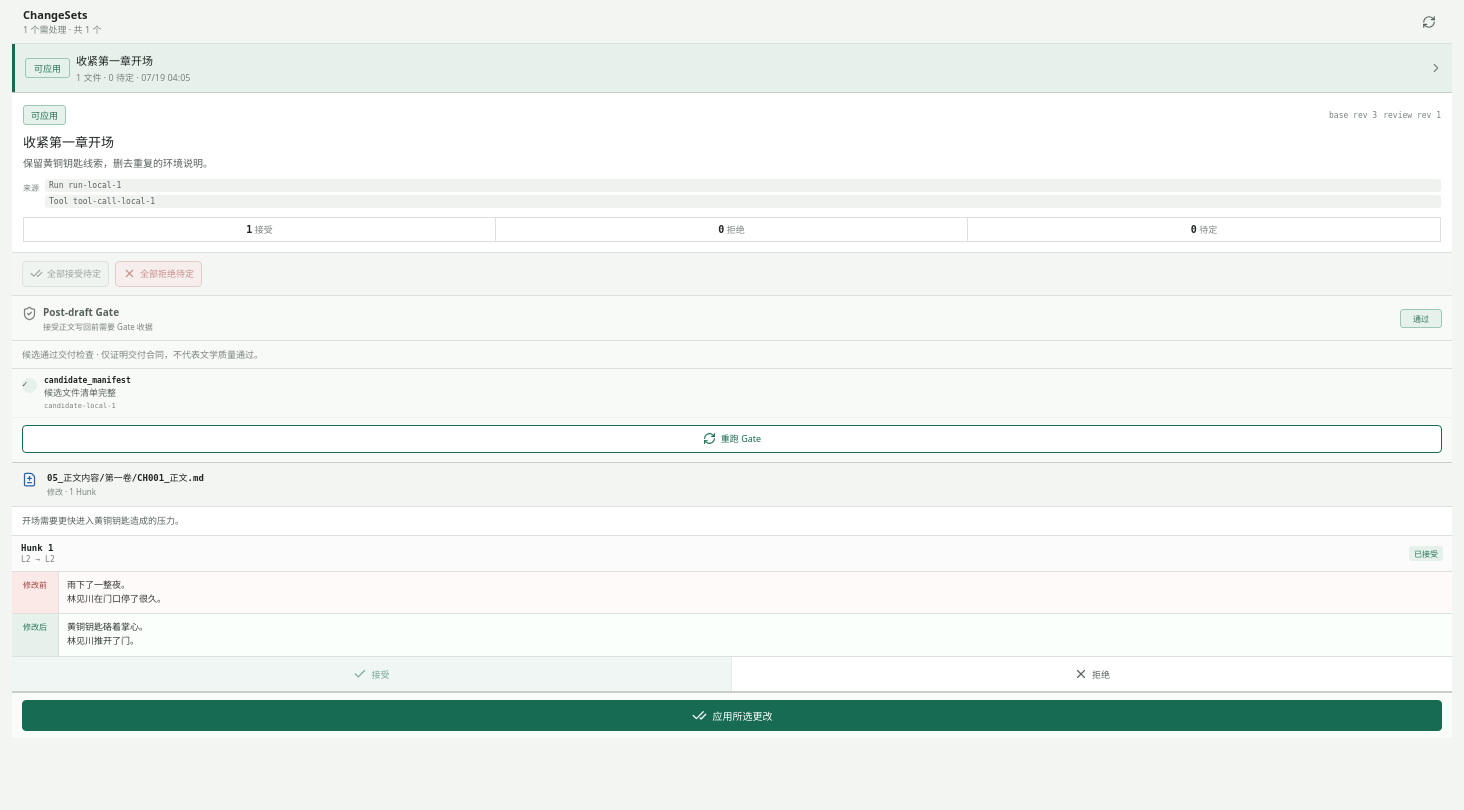
Scenario: ChangeSetReview › offers discard instead of an impossible Gate rerun after the final accepted Hunk is rejected
Expected: the text named "Gate 状态：通过" is shown, [1400, 309, 1442, 328]
Click the button "拒绝": coordinates (1092, 674) [732, 657, 1452, 691]
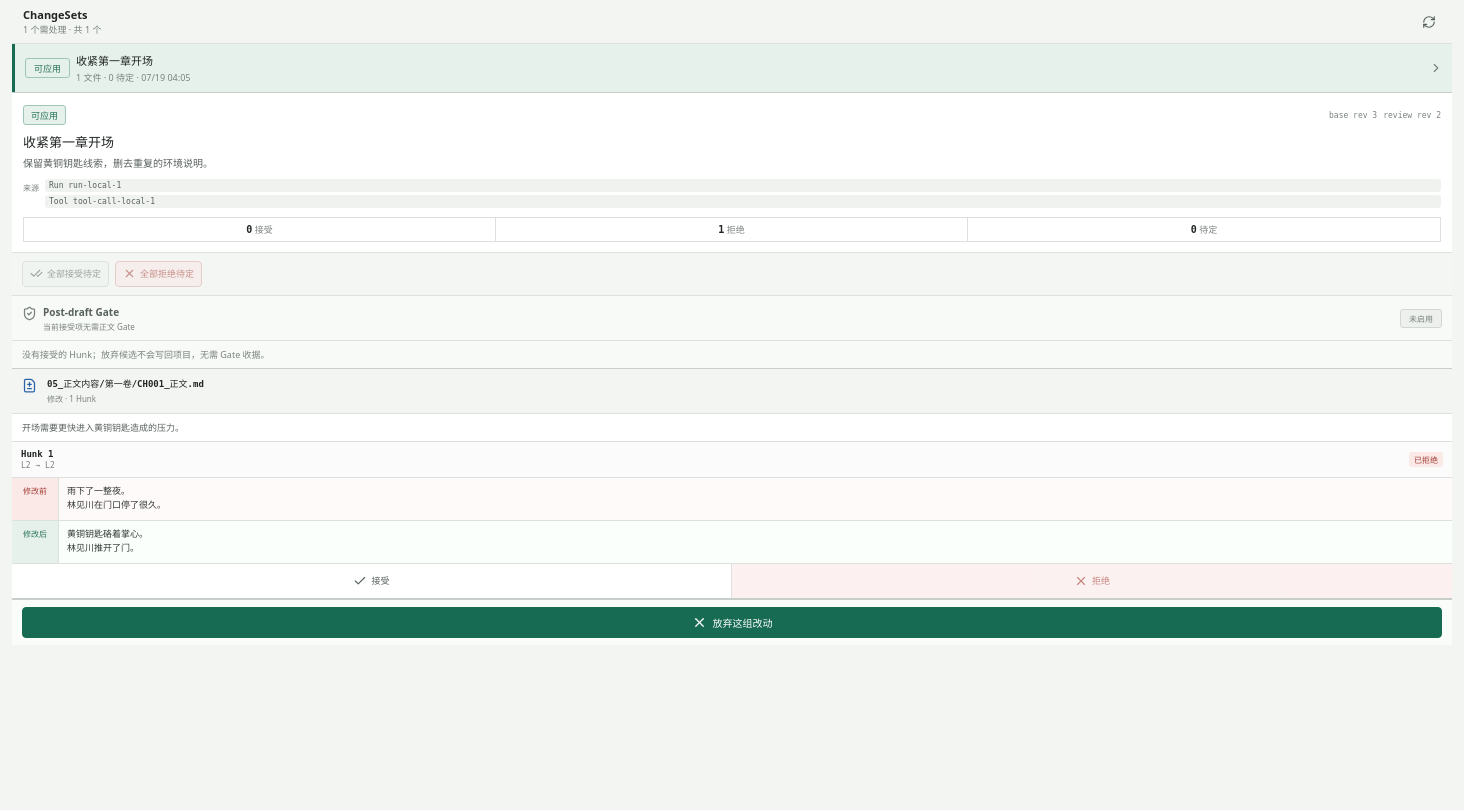
Expected: the button "放弃这组改动" is enabled, [22, 607, 1442, 638]
Expected: the text "没有接受的 Hunk；放弃候选不会写回项目，无需 Gate 收据。" is shown, [22, 348, 270, 361]
Expected: the button "重跑 Gate" is gone
